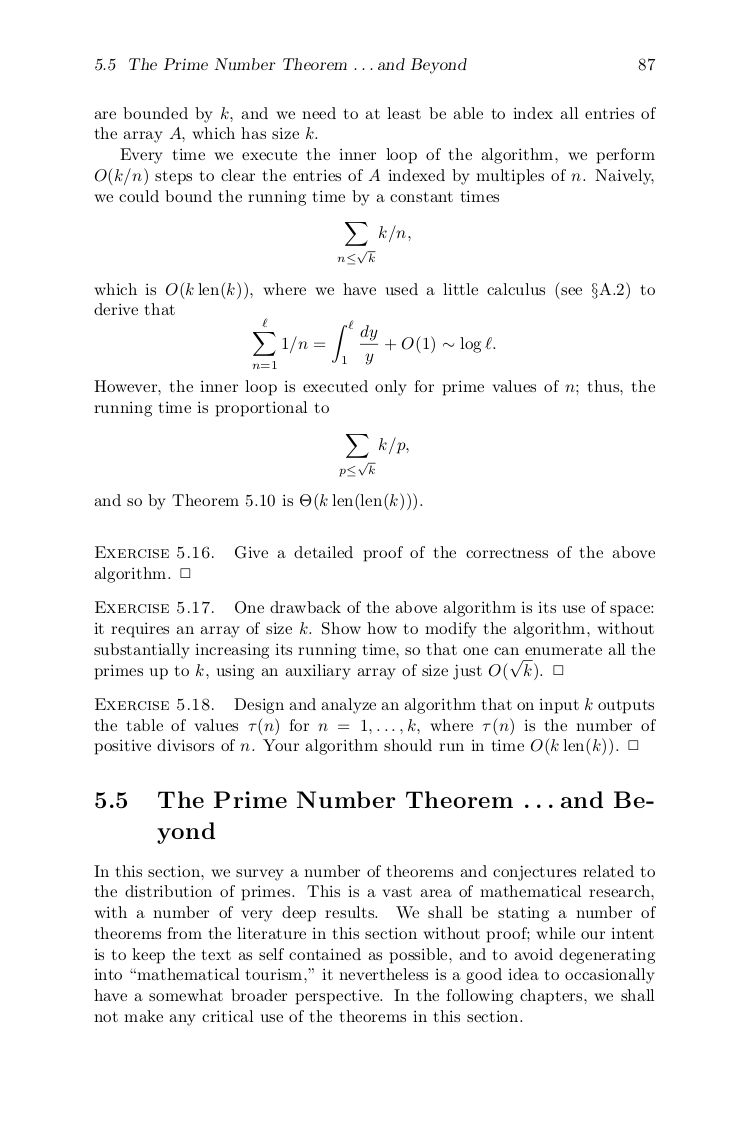formula: (252, 317, 495, 369), (337, 222, 410, 264), (339, 434, 408, 476)
